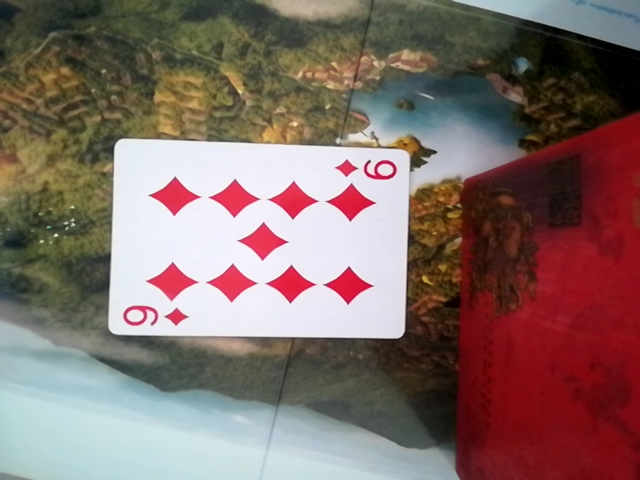fk 9: (101, 140, 404, 342)
